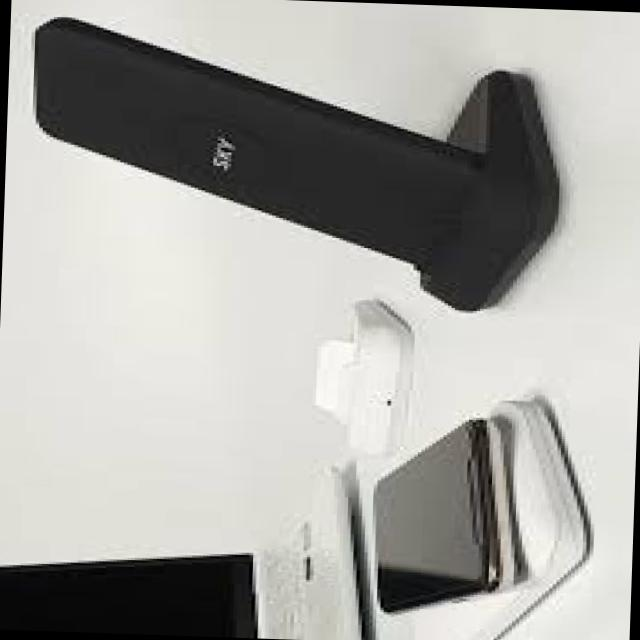portable-charger: (396, 390, 593, 640)
